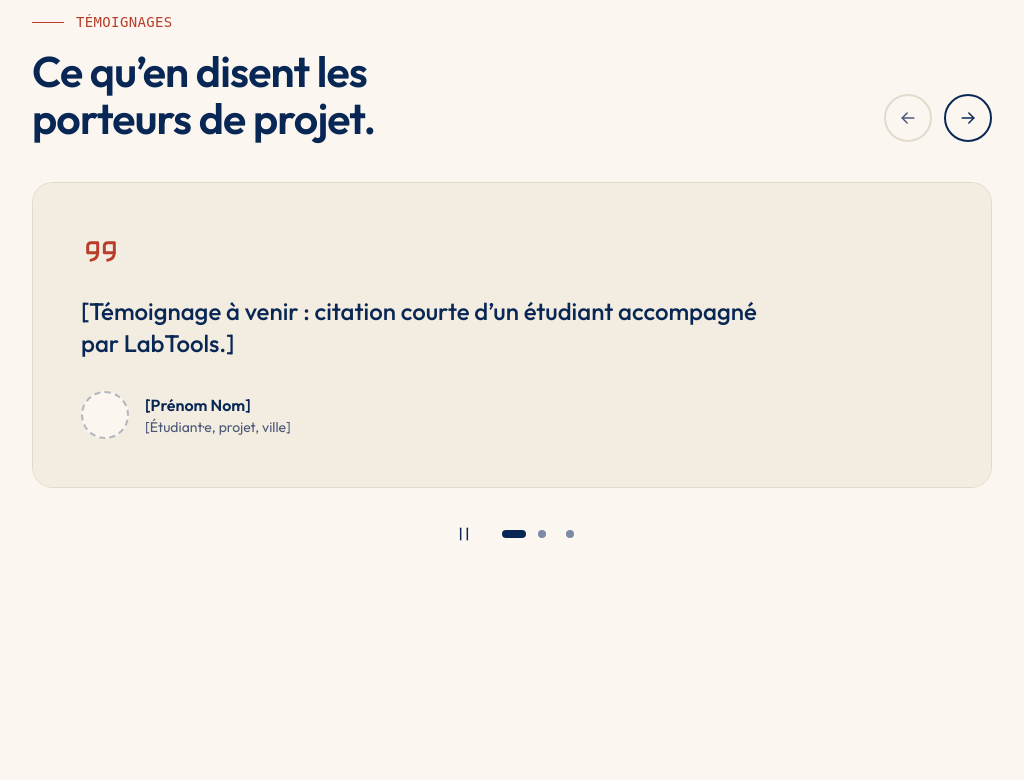
Test: Testimonials › s’arrête quand l’utilisateur navigue lui-même
What coordinates should you click on to do the following:
click the button named "Témoignage suivant"
I would click on:
 (968, 118)
Its box is [944,94,992,142].
Wait 12000 ms
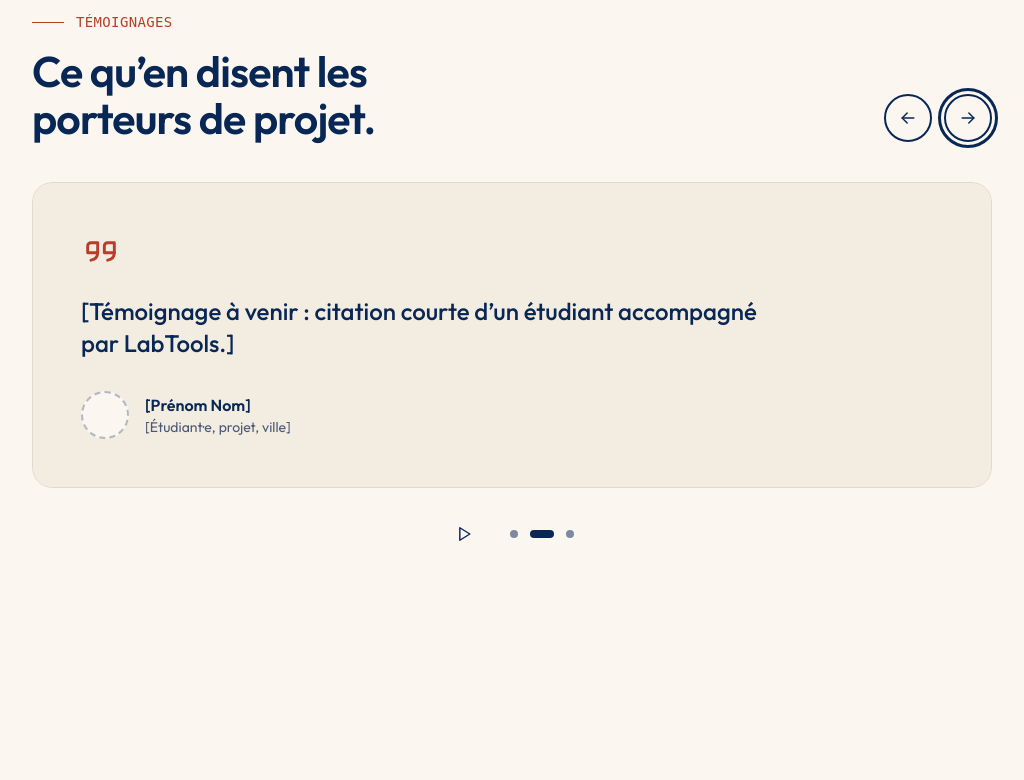
Result: the button named "Reprendre le défilement des témoignages" is shown at [442,512,486,556]
